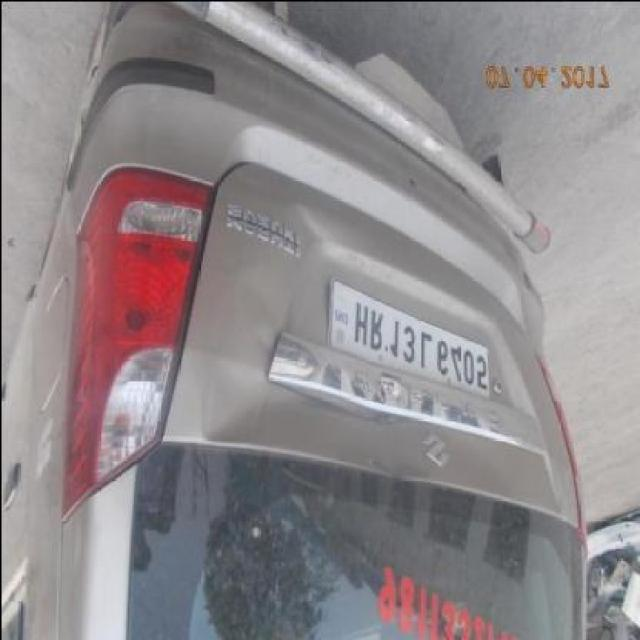damage: (198, 351, 279, 440), (224, 261, 288, 362), (280, 199, 329, 248)
